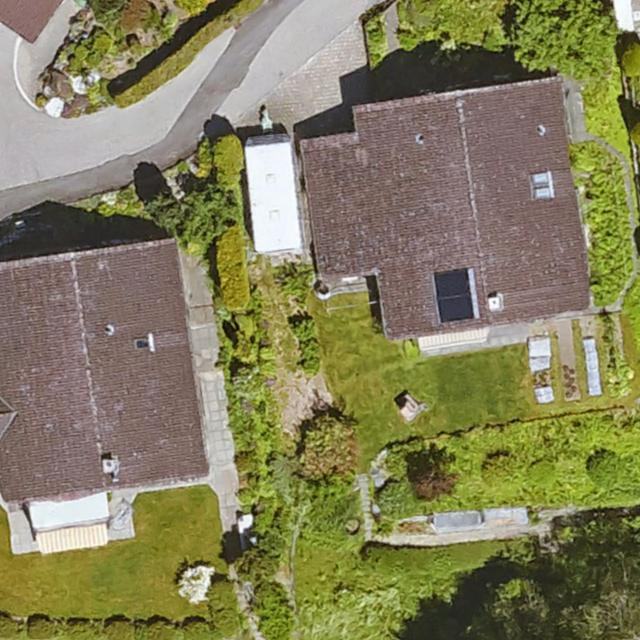tree: (489, 547, 640, 640), (511, 0, 618, 74), (302, 413, 358, 477), (144, 194, 182, 231)
